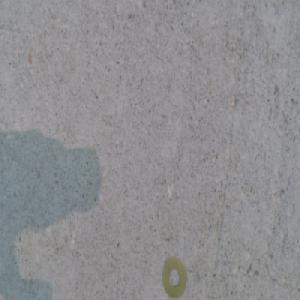Washer: (162, 259, 187, 299)
